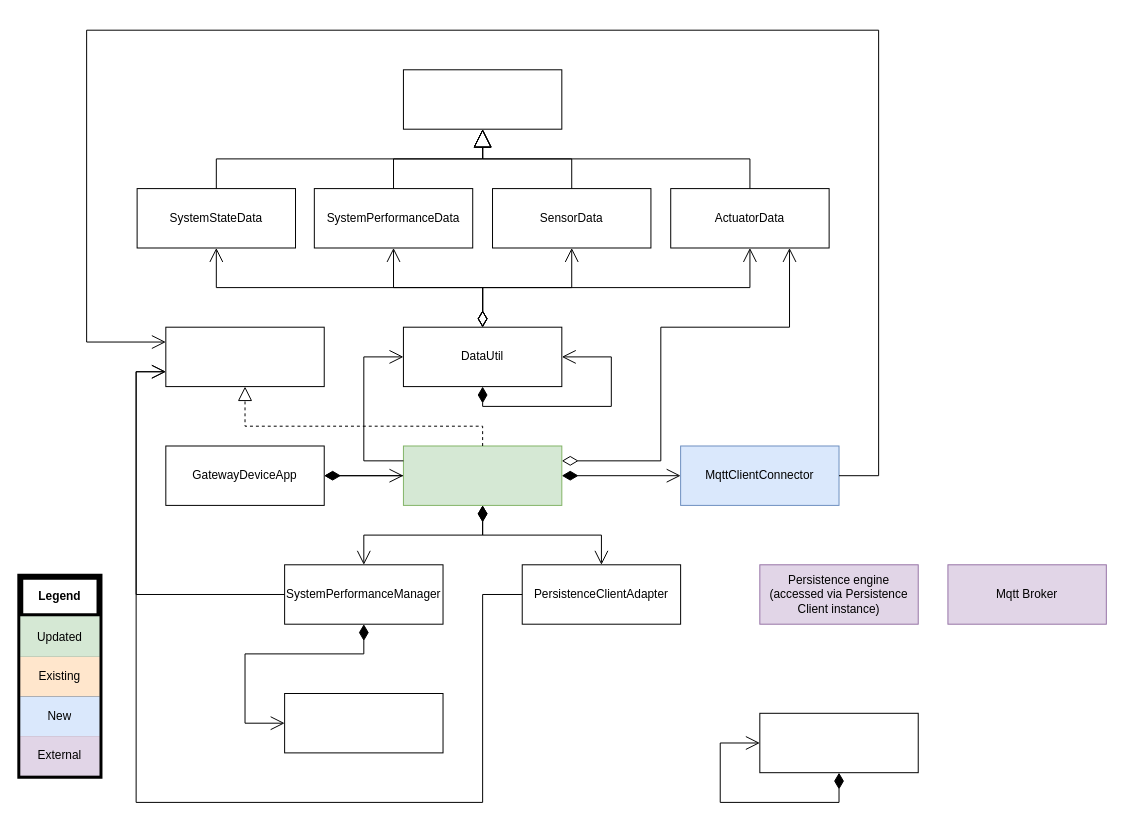
This 1124x837 diagram has some shape labels left out. The centre of each missing label's shape, as x and y in pixels:
"BaseIotData" goes at pixel 482 99.
"ConfigUtil" goes at pixel 838 742.
"DeviceDataManager" goes at pixel 482 475.
"IDataMessageListener" goes at pixel 244 356.
"System Perf tasks" goes at pixel 363 723.
